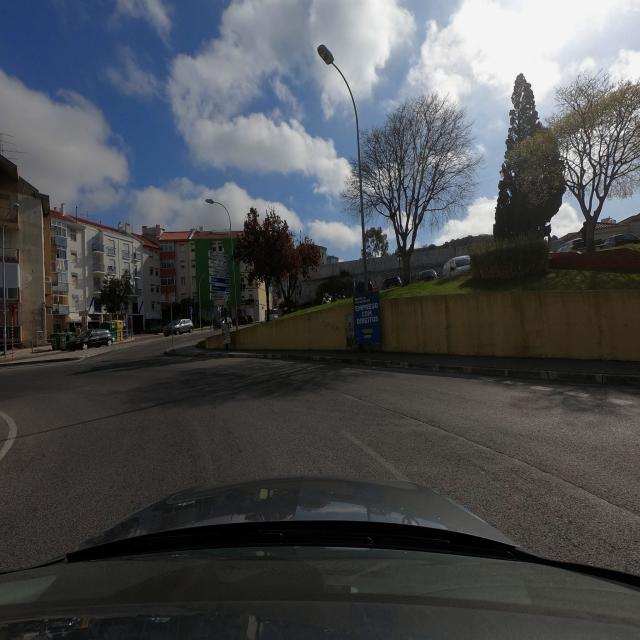car: (442, 255, 471, 278), (163, 318, 194, 336), (89, 330, 115, 346), (381, 275, 403, 289), (417, 269, 438, 281)
